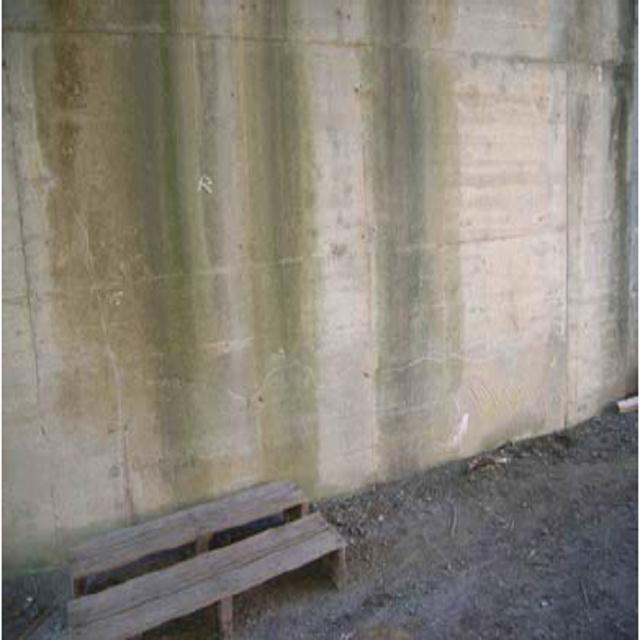leakage: (46, 10, 458, 479)
